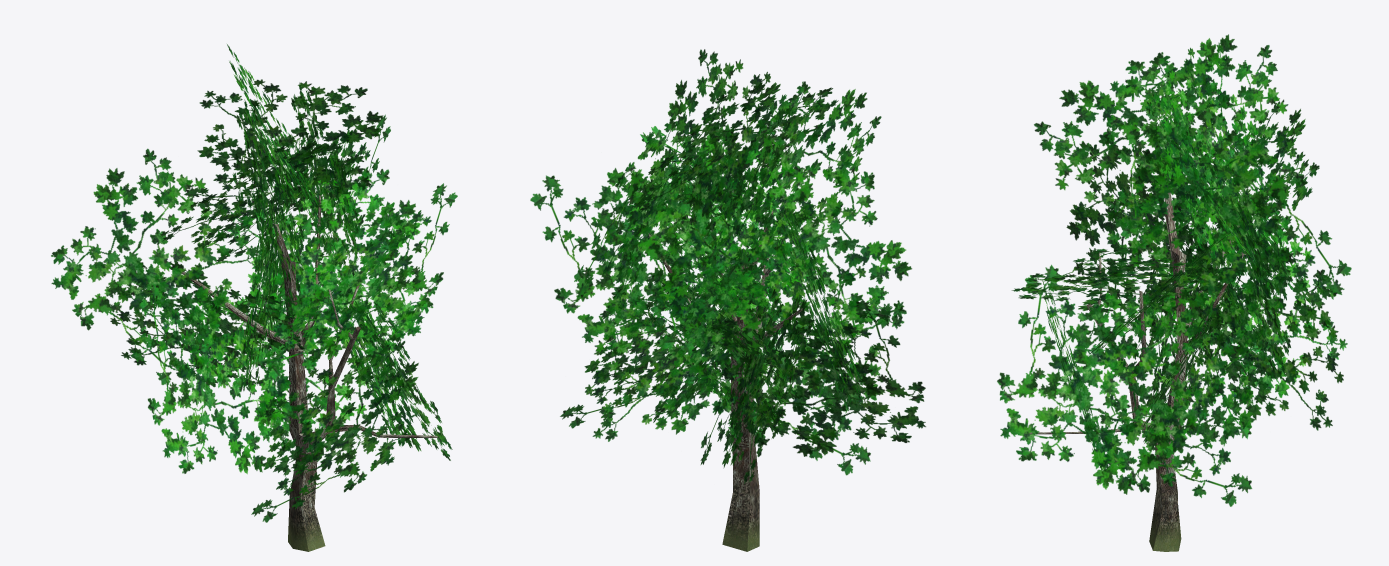
The model's file is Tree13.glb.
3 views of the same model, side by side, from view 1: azimuth 30°, elevation 25°; view 2: azimuth 150°, elevation 25°; view 3: azimuth 270°, elevation 25° (orthographic). The views are drawn at different scales.
Parts seen in each view (by area): view 1: Tree13-col; view 2: Tree13-col; view 3: Tree13-col.
Part boxes in pixels (box(x1,y1,x2,y2)): Tree13-col: box(51, 44, 457, 551); Tree13-col: box(530, 49, 925, 551); Tree13-col: box(997, 34, 1351, 551).
Size of the model in its own units: 6.95 by 8.82 by 6.28.
Materials: 2 (2 with a texture image).
